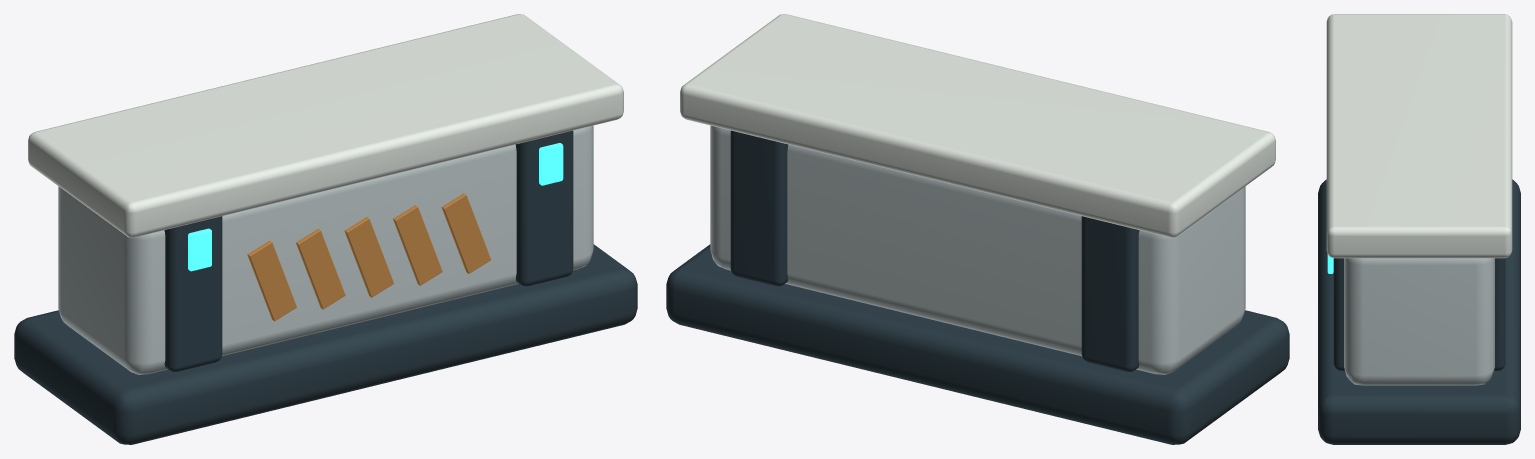
Rendered from Barricade.fbx.
The picture shows the model from 3 angles, left to right: view 1: azimuth 30°, elevation 25°; view 2: azimuth 150°, elevation 25°; view 3: azimuth 270°, elevation 25°; orthographic projection. The views are drawn at different scales.
Parts seen in each view (by area): view 1: Top plate, Cover, Base, End cap, End cap.001, Warning stripe.001, Warning stripe, Warning stripe.002, Warning stripe.003, Warning stripe.004, Beacon.002, Beacon.001; view 2: Top plate, Cover, Base, End cap, End cap.001; view 3: Top plate, Cover, Base, End cap.001.
Boxes of the visible parts, left/top/right/bottom form: Top plate: left=28, top=14, right=623, bottom=237; Cover: left=58, top=125, right=593, bottom=374; Base: left=14, top=244, right=637, bottom=444; End cap: left=164, top=216, right=222, bottom=371; End cap.001: left=515, top=130, right=573, bottom=286; Warning stripe.001: left=296, top=228, right=345, bottom=309; Warning stripe: left=247, top=240, right=296, bottom=321; Warning stripe.002: left=344, top=217, right=393, bottom=297; Warning stripe.003: left=393, top=205, right=442, bottom=285; Warning stripe.004: left=441, top=193, right=491, bottom=273; Beacon.002: left=539, top=143, right=563, bottom=185; Beacon.001: left=188, top=228, right=211, bottom=271; Top plate: left=680, top=14, right=1275, bottom=237; Cover: left=710, top=125, right=1245, bottom=374; Base: left=666, top=244, right=1289, bottom=444; End cap: left=1081, top=216, right=1139, bottom=371; End cap.001: left=730, top=130, right=788, bottom=286; Top plate: left=1326, top=14, right=1512, bottom=258; Cover: left=1344, top=258, right=1494, bottom=385; Base: left=1318, top=179, right=1520, bottom=444; End cap.001: left=1333, top=258, right=1505, bottom=370.
Bounding box in the file's own units: 2.8 × 1.23 × 1.05.
